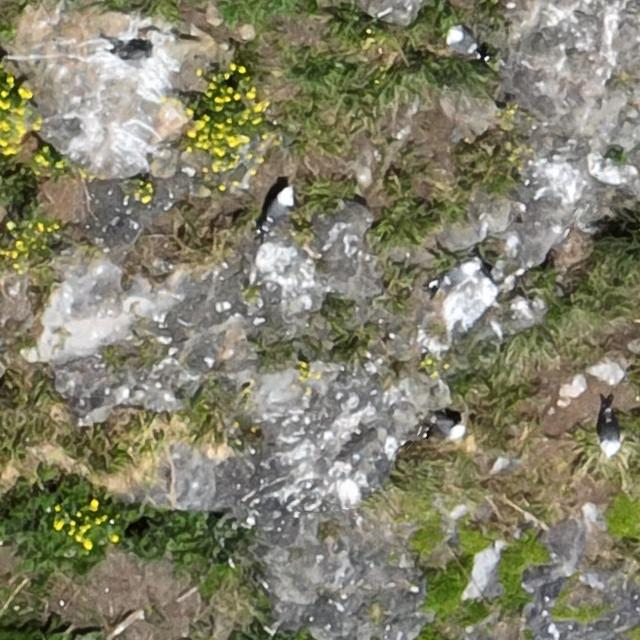umineko: (439, 262, 479, 298), (112, 46, 160, 71), (447, 29, 476, 57), (267, 189, 291, 222), (602, 418, 622, 456), (434, 416, 464, 437)
